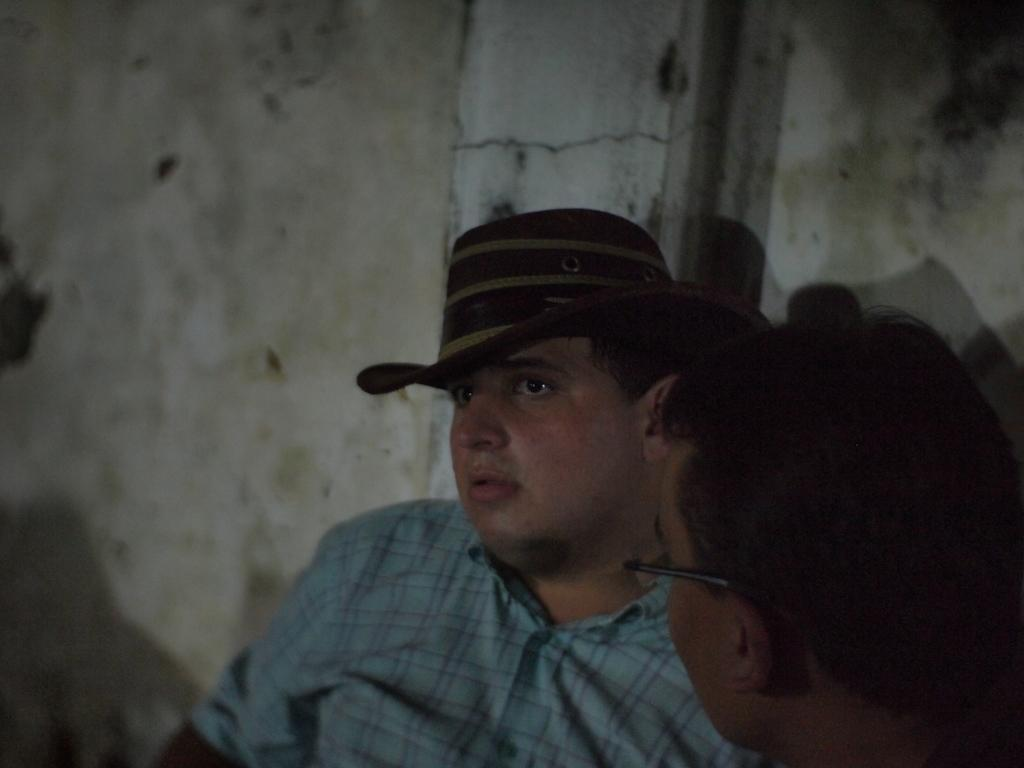Hat: (354, 208, 772, 396)
